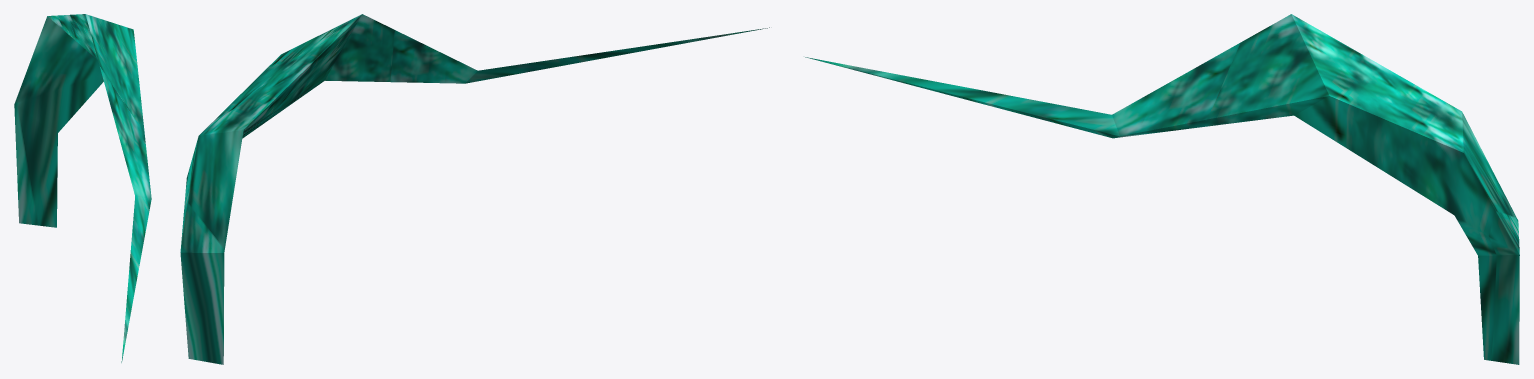
File: H1_BluePlant_Branch_15.gltf
3 renders of one model, left to right at view 1: azimuth 30°, elevation 25°; view 2: azimuth 150°, elevation 25°; view 3: azimuth 270°, elevation 25°, orthographic. The views are drawn at different scales.
Visible parts, largest first — view 1: H1_BluePlant_Branch_15; view 2: H1_BluePlant_Branch_15; view 3: H1_BluePlant_Branch_15.
Part boxes in pixels (bbox=[...]): H1_BluePlant_Branch_15: bbox=[14, 14, 151, 362]; H1_BluePlant_Branch_15: bbox=[180, 14, 769, 364]; H1_BluePlant_Branch_15: bbox=[805, 14, 1519, 364].
Bounding box in the file's own units: 3.06 × 2.89 × 6.
Materials: 1 (1 with a texture image).
